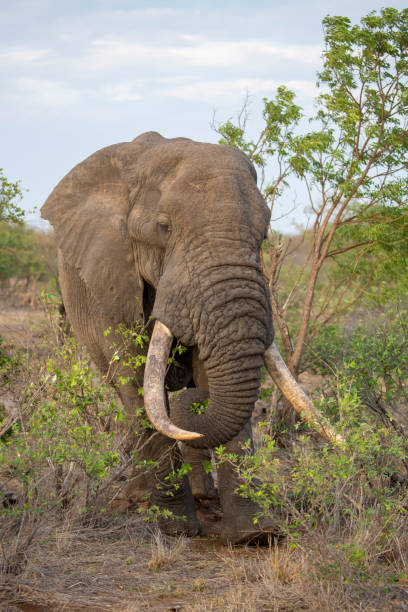africanelephant: (94, 157, 356, 464)
